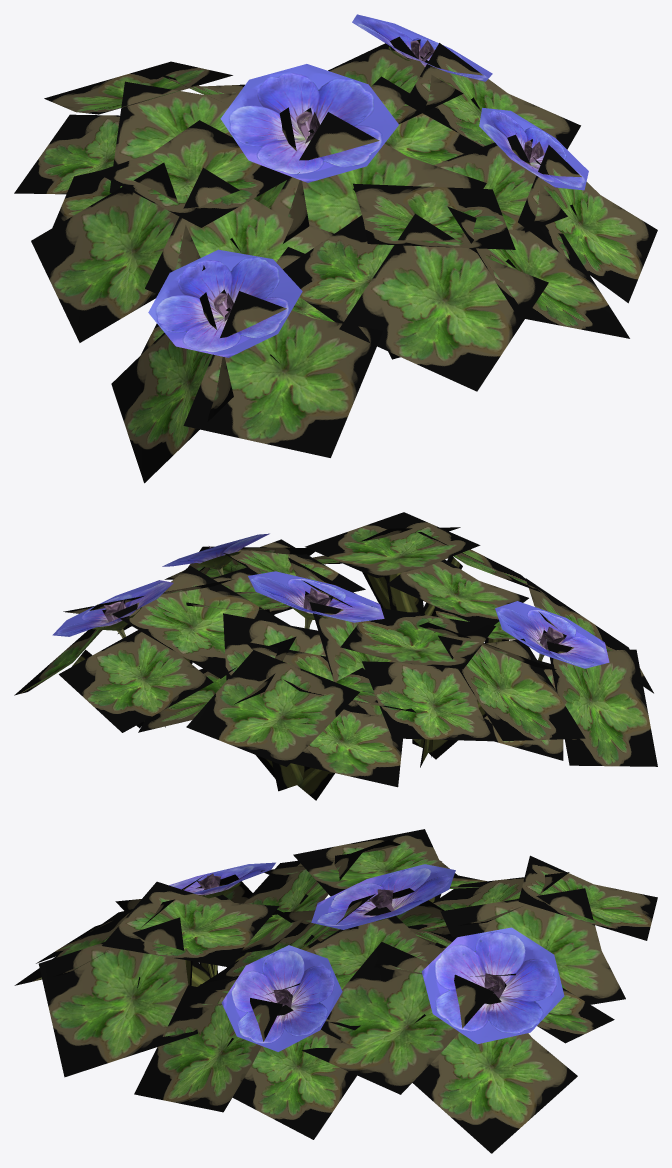
Rendered from geranium rozanne_A.FBX.
3 views of the same model, one above another, from view 1: azimuth 30°, elevation 25°; view 2: azimuth 150°, elevation 25°; view 3: azimuth 270°, elevation 25° (orthographic). The views are drawn at different scales.
Visible parts, largest first — view 1: geranium rozanne005, geranium rozanne007, geranium rozanne006, geranium rozanne, geranium rozanne2, geranium rozanne008, geranium rozanne3; view 2: geranium rozanne006, geranium rozanne008, geranium rozanne3, geranium rozanne007, geranium rozanne005, geranium rozanne, geranium rozanne2; view 3: geranium rozanne3, geranium rozanne2, geranium rozanne005, geranium rozanne008, geranium rozanne, geranium rozanne006, geranium rozanne007.
Boxes of the visible parts, <box> form: geranium rozanne005: <box>283,183,629,391</box>; geranium rozanne007: <box>111,247,383,483</box>; geranium rozanne006: <box>31,120,333,342</box>; geranium rozanne: <box>220,64,486,243</box>; geranium rozanne2: <box>434,107,657,303</box>; geranium rozanne008: <box>14,61,244,194</box>; geranium rozanne3: <box>328,14,580,149</box>; geranium rozanne006: <box>340,606,585,767</box>; geranium rozanne008: <box>138,636,415,800</box>; geranium rozanne3: <box>14,565,290,732</box>; geranium rozanne007: <box>434,578,657,766</box>; geranium rozanne005: <box>305,512,541,625</box>; geranium rozanne: <box>186,557,419,716</box>; geranium rozanne2: <box>118,533,365,633</box>; geranium rozanne3: <box>302,927,614,1153</box>; geranium rozanne2: <box>134,945,360,1139</box>; geranium rozanne005: <box>14,881,279,1077</box>; geranium rozanne008: <box>407,855,657,1004</box>; geranium rozanne: <box>198,864,456,989</box>; geranium rozanne006: <box>239,829,486,953</box>; geranium rozanne007: <box>36,862,282,986</box>.
Size of the model in its own units: 61.72 by 24.39 by 66.28.
